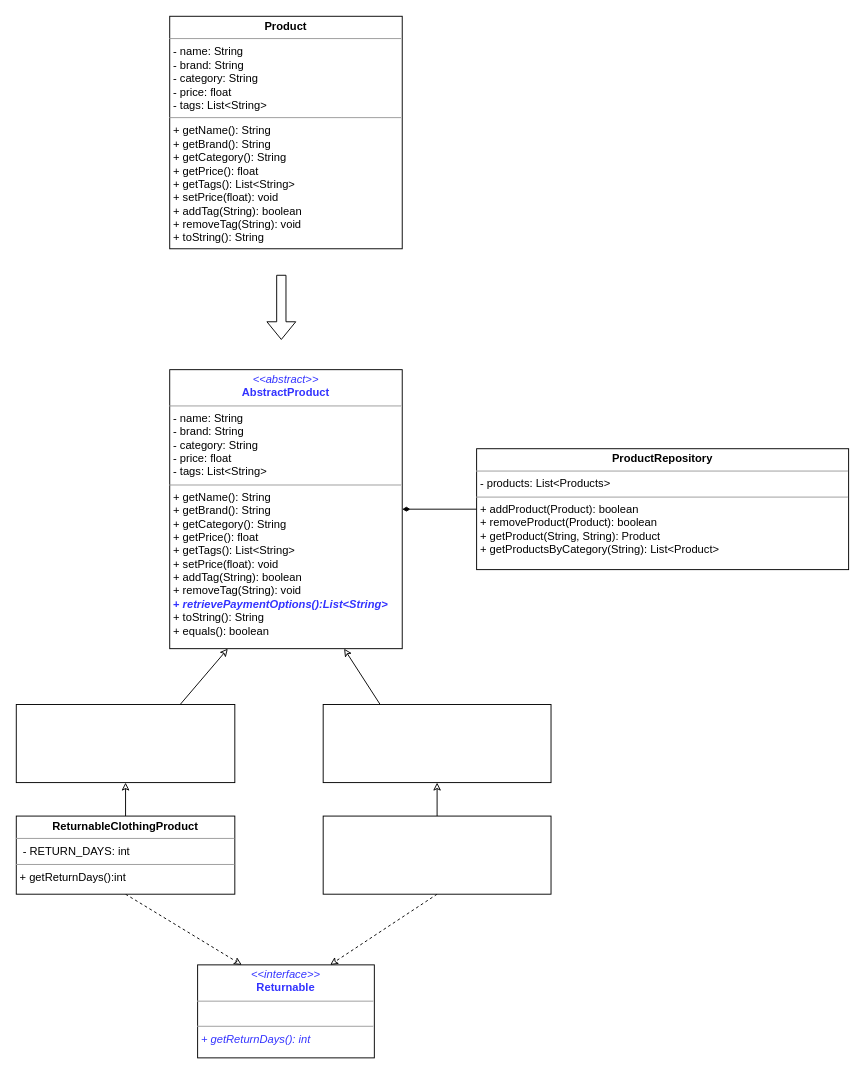
The diagram is 865 pixels wide and 1074 high, and some of its shapes have lost their labels. The shapes that lost their labels are listed below. From the top down, each one's box as (x1, y1, x2, y2) in pixels, then its label:
(15, 704, 235, 783): ClothingProduct + retrievePaymentOptions():List<String>
(322, 704, 551, 783): GenericProduct + retrievePaymentOptions():List<String>
(322, 815, 551, 894): ReturnableGenericProduct - returnDays: int + getReturnDays():int
